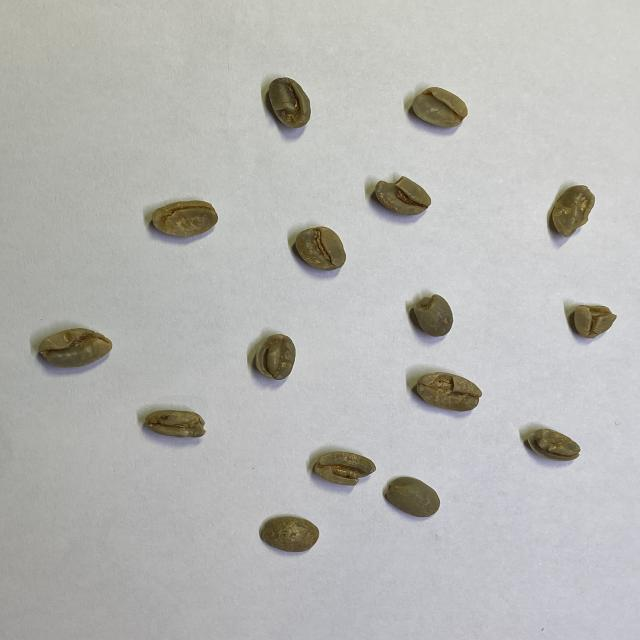bad: (37, 327, 113, 369), (414, 371, 484, 414), (151, 200, 219, 238), (374, 175, 433, 217), (552, 184, 596, 239), (313, 450, 378, 487), (268, 76, 313, 129), (254, 332, 297, 380), (526, 427, 581, 463), (144, 409, 207, 439), (412, 294, 454, 338), (573, 303, 618, 339)
good: (384, 475, 442, 519), (412, 86, 469, 130), (260, 514, 320, 554), (296, 226, 348, 272)
